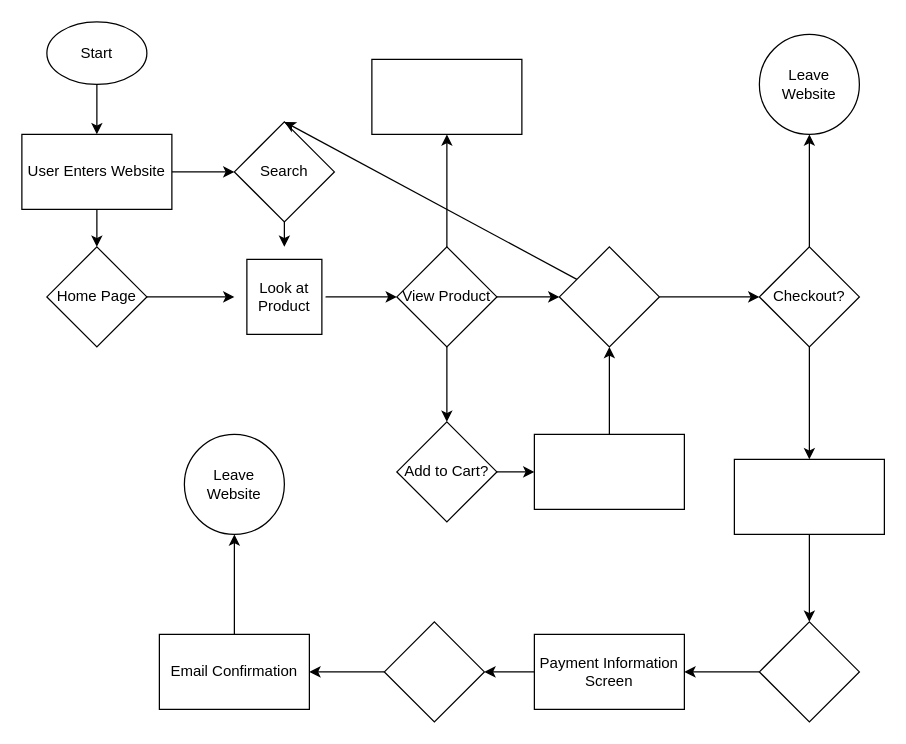
Image size: 906x744. Some labels were removed from this diagram. The shapes that lost their labels are listed below. From the top down, each one's centre as x and y in pixels, then its label:
At point (446, 96): "Webpage Will Open".
At point (608, 296): "Continue Shopping".
At point (608, 471): "Cart Confirmation".
At point (808, 496): "View Cart Screen".
At point (433, 671): "Pay".
At point (808, 671): "View Payment Screen?".
